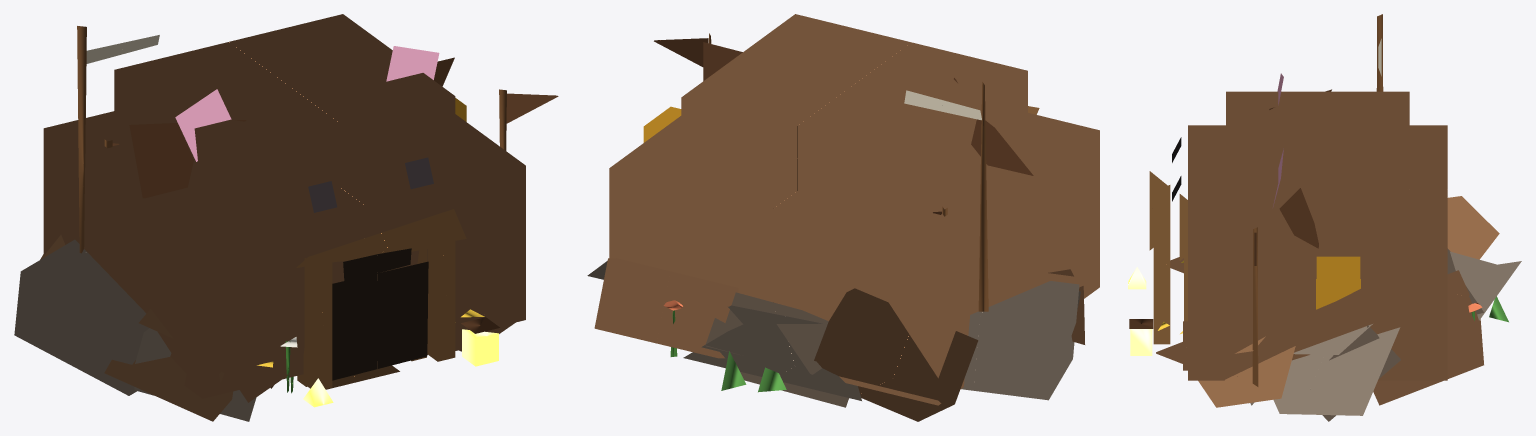
The model's file is bear-honey-cave-blocky_lod2.glb.
3 renders of one model, left to right at view 1: azimuth 30°, elevation 25°; view 2: azimuth 150°, elevation 25°; view 3: azimuth 270°, elevation 25°, orthographic. The views are drawn at different scales.
Visible parts, largest first — view 1: lv3, lv2, lv1; view 2: lv3, lv2; view 3: lv3, lv2.
Part boxes in pixels (box(x1,y1,x2,y2)): lv3: box(14, 14, 558, 421); lv2: box(104, 139, 481, 421); lv1: box(270, 348, 427, 393); lv3: box(587, 14, 1099, 421); lv2: box(705, 206, 1080, 407); lv3: box(1128, 14, 1521, 415); lv2: box(1179, 194, 1483, 421).
Bounding box in the file's own units: 2.12 × 1.5 × 1.9.
